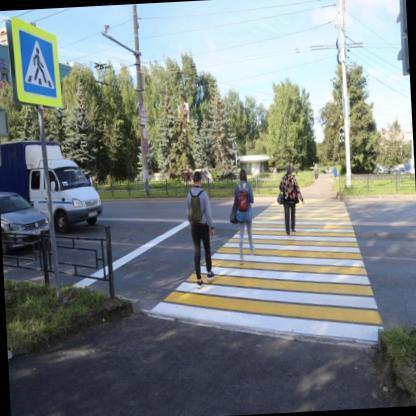road_sign: (7, 18, 61, 107)
